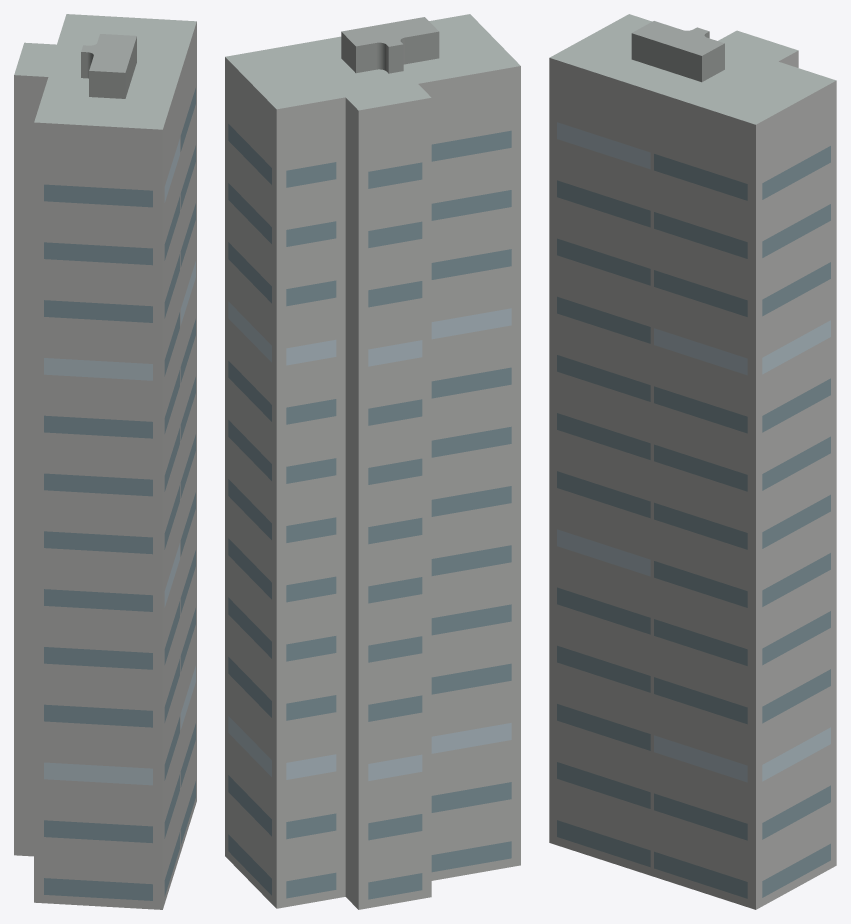
File: fallback-jamsil-trizium-305.glb
3 renders of one model, left to right at view 1: azimuth 30°, elevation 25°; view 2: azimuth 150°, elevation 25°; view 3: azimuth 270°, elevation 25°, orthographic. The views are drawn at different scales.
Parts seen in each view (by area): view 1: fallback-jamsil-trizium-305; view 2: fallback-jamsil-trizium-305; view 3: fallback-jamsil-trizium-305.
Boxes of the visible parts, left/top/right/bottom form: fallback-jamsil-trizium-305: left=14, top=14, right=196, bottom=909; fallback-jamsil-trizium-305: left=225, top=14, right=520, bottom=909; fallback-jamsil-trizium-305: left=549, top=14, right=836, bottom=909.
Bounding box in the file's own units: 21.68 × 74 × 23.73.
